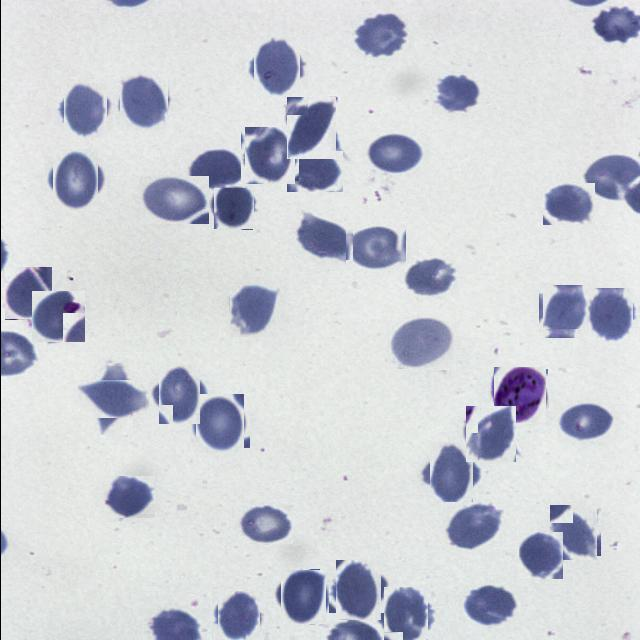difficult: (491, 368, 546, 422)
red blood cell: (388, 316, 455, 370), (139, 176, 208, 224), (283, 100, 339, 156), (423, 447, 478, 501), (249, 41, 303, 95), (192, 397, 246, 451), (48, 153, 102, 207), (116, 76, 170, 130), (242, 129, 296, 183), (86, 372, 140, 426), (462, 407, 516, 461), (444, 502, 503, 550), (30, 291, 84, 343), (345, 225, 406, 271), (332, 563, 384, 616), (228, 285, 280, 337), (547, 506, 598, 558), (276, 572, 328, 622), (294, 216, 352, 260), (154, 368, 204, 419), (584, 290, 635, 340), (4, 267, 52, 320), (352, 12, 407, 58), (364, 132, 424, 174), (59, 86, 109, 136), (380, 591, 431, 640), (540, 286, 589, 336), (462, 585, 518, 628), (403, 256, 459, 298), (186, 148, 244, 188), (286, 151, 342, 192), (557, 403, 614, 442), (214, 594, 262, 640), (102, 476, 154, 518), (542, 183, 594, 225), (518, 532, 563, 580), (237, 505, 292, 544), (210, 182, 256, 228), (431, 73, 482, 114)
